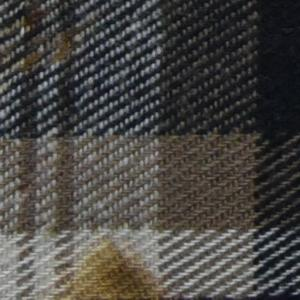Oil Stain: (51, 236, 168, 300), (1, 1, 92, 75)
